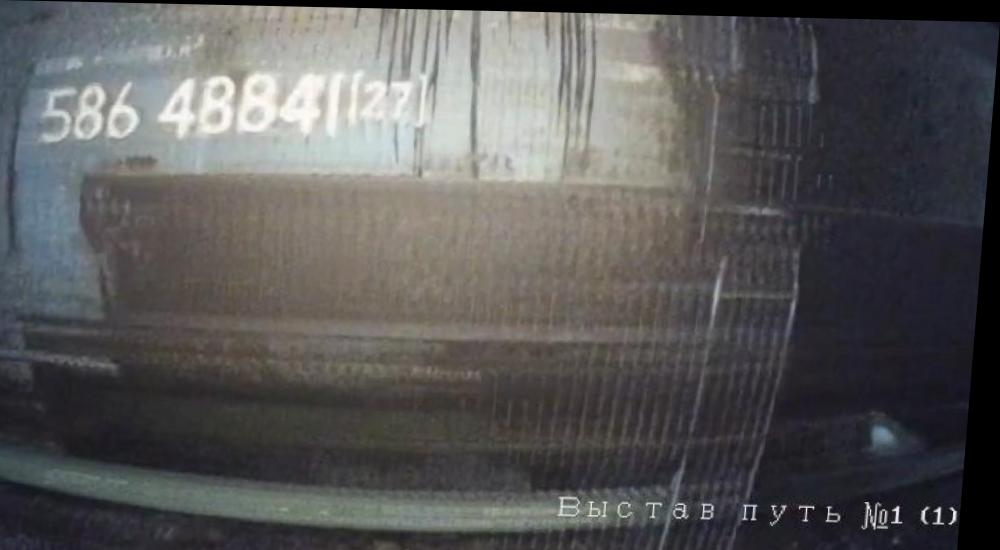Wagon-number: (43, 63, 348, 140)
